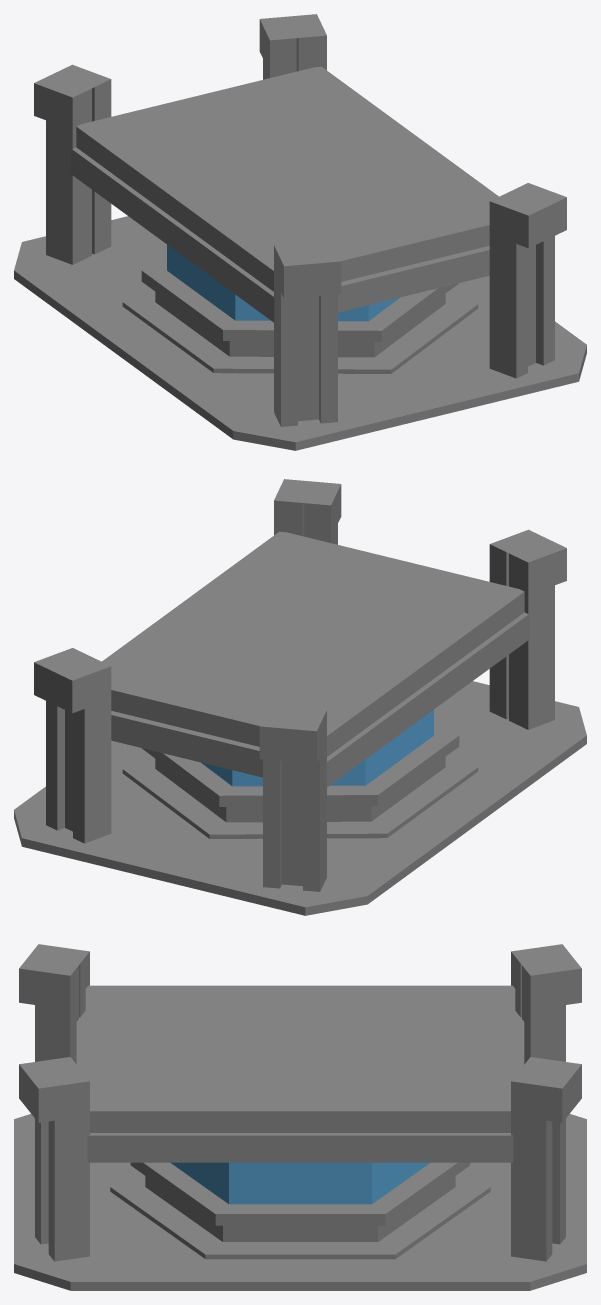
Rendered from Museo.fbx.
3 views of the same model, one above another, from view 1: azimuth 30°, elevation 25°; view 2: azimuth 150°, elevation 25°; view 3: azimuth 270°, elevation 25° (orthographic). The views are drawn at different scales.
Parts seen in each view (by area): view 1: Cube.001, Cube, Cube.002, Cylinder; view 2: Cube.001, Cube, Cube.002, Cylinder; view 3: Cube.001, Cube.002, Cube, Cylinder.
Boxes of the visible parts, <box> form: Cube.001: <box>71,66,498,322</box>; Cube: <box>34,14,566,426</box>; Cube.002: <box>14,216,586,450</box>; Cylinder: <box>122,244,478,373</box>; Cube.001: <box>102,531,529,787</box>; Cube: <box>34,479,566,891</box>; Cube.002: <box>14,681,586,915</box>; Cylinder: <box>122,709,478,838</box>; Cube.001: <box>76,985,524,1162</box>; Cube.002: <box>14,1114,586,1290</box>; Cube: <box>19,944,581,1261</box>; Cylinder: <box>110,1162,490,1259</box>.
Size of the model in its own units: 4363 by 2074 by 5848.
